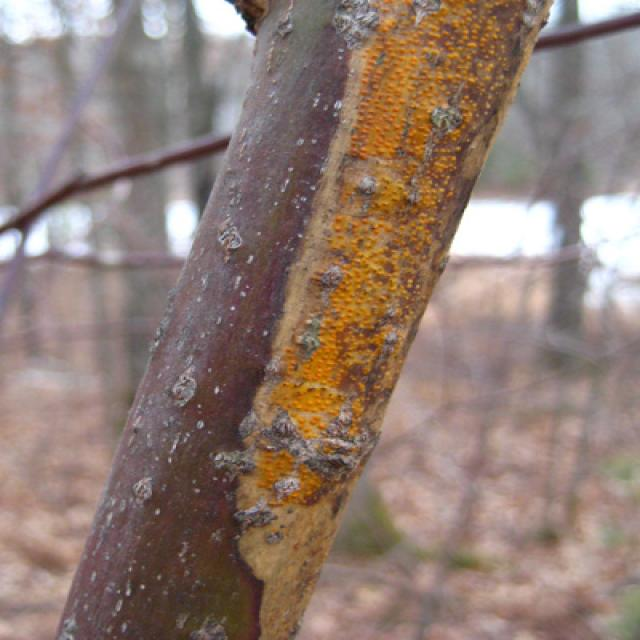Golden_canker: (184, 16, 585, 640)
